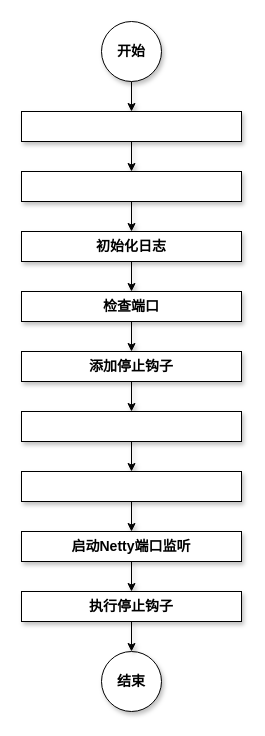
This 265x736 diagram has some shape labels left out. Here are the shapes that lost their labels. From the top down, the centre of each, then its label:
point (132, 127): 实例化Final-Server
point (132, 187): 加载properties配置
point (132, 427): 初始化Spring
point (132, 487): 加载所有组件配置
